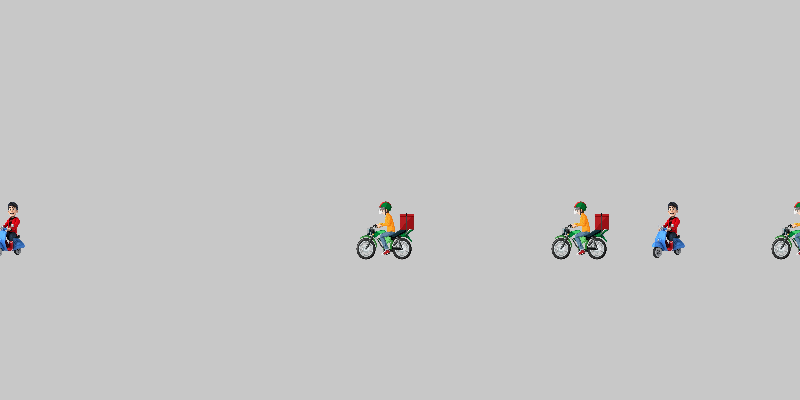helmet: (355, 200, 415, 260), (550, 200, 610, 260), (770, 200, 800, 260)
no_helmet: (640, 200, 700, 260), (0, 200, 40, 260)
